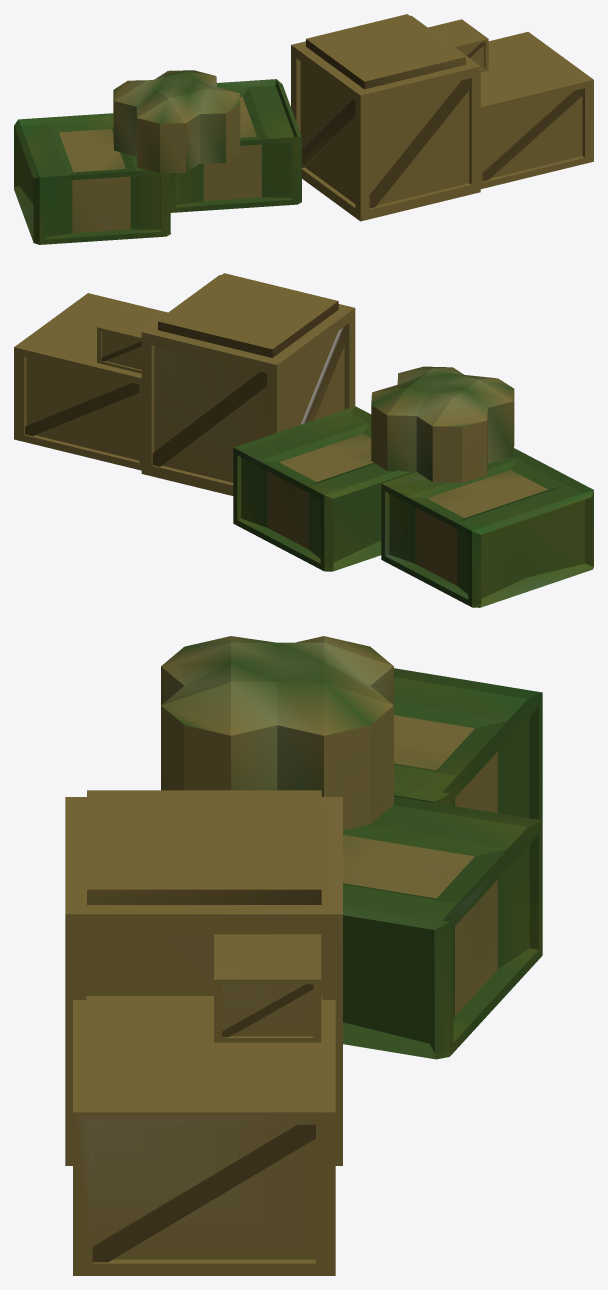
The model's file is CaixasEmpilhadas.fbx.
3 renders of one model, top to bottom at view 1: azimuth 30°, elevation 25°; view 2: azimuth 150°, elevation 25°; view 3: azimuth 270°, elevation 25°, orthographic. The views are drawn at different scales.
Visible parts, largest first — view 1: LOD_0; view 2: LOD_0; view 3: LOD_0.
Boxes of the visible parts, <box> form: LOD_0: <box>14,14,593,244</box>; LOD_0: <box>14,273,593,607</box>; LOD_0: <box>65,636,542,1275</box>.
Size of what is drawn, in the model's own units: 671 by 170 by 275.
